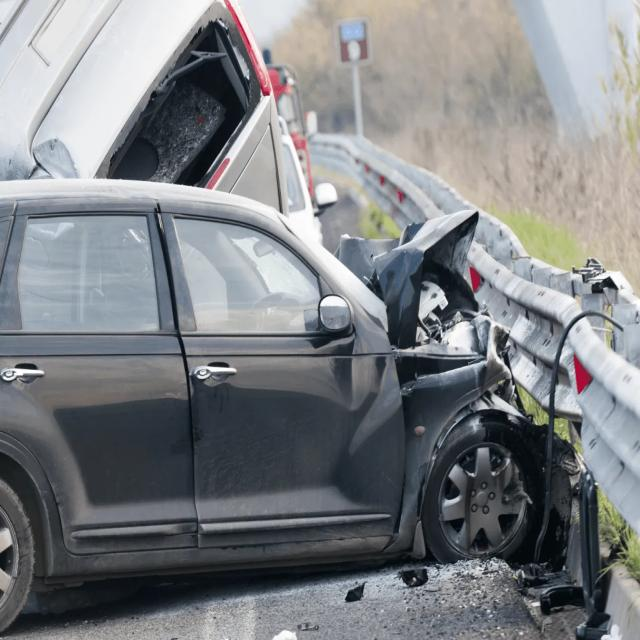Accident: (2, 0, 584, 634)
